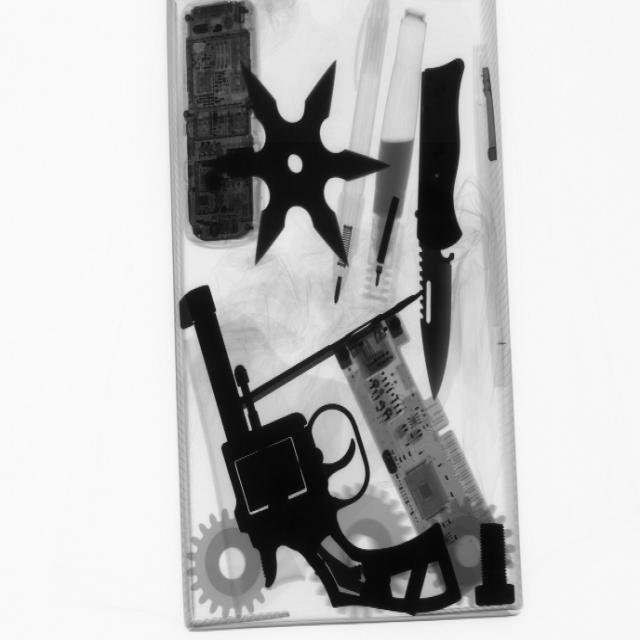GUN: (182, 283, 473, 626)
KNIFE: (405, 55, 481, 394)
SHURIKEN: (211, 53, 384, 269)
